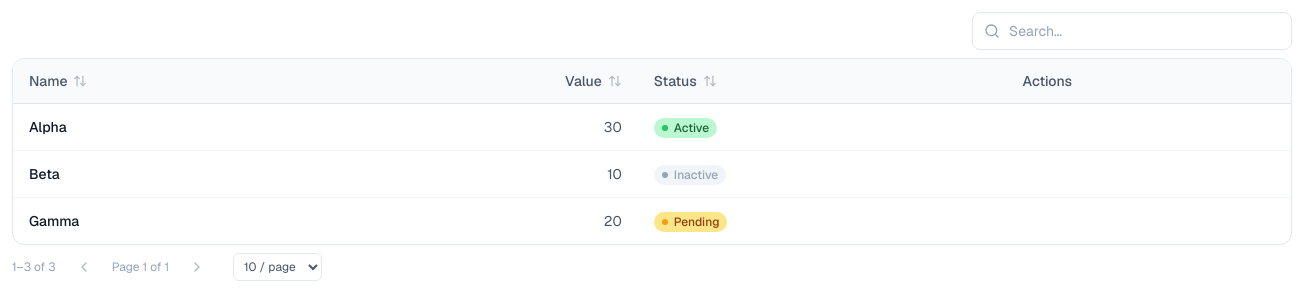
Test: DataTable › filters rows via the search input
This screenshot has width=1304, height=298.
Type "beta" into the search field at [1132, 31], box [972,12,1292,50]
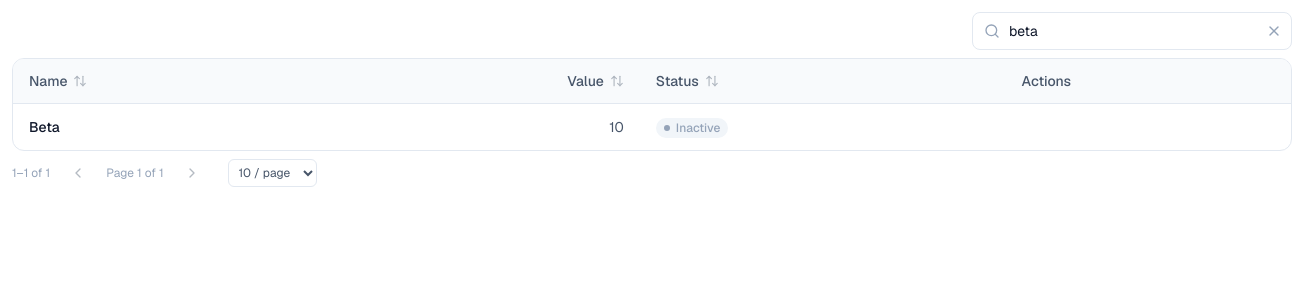
Expected: the text "Beta" is shown, [13,104,330,150]
Result: the text "Alpha" is gone
Result: the text "Gamma" is gone
